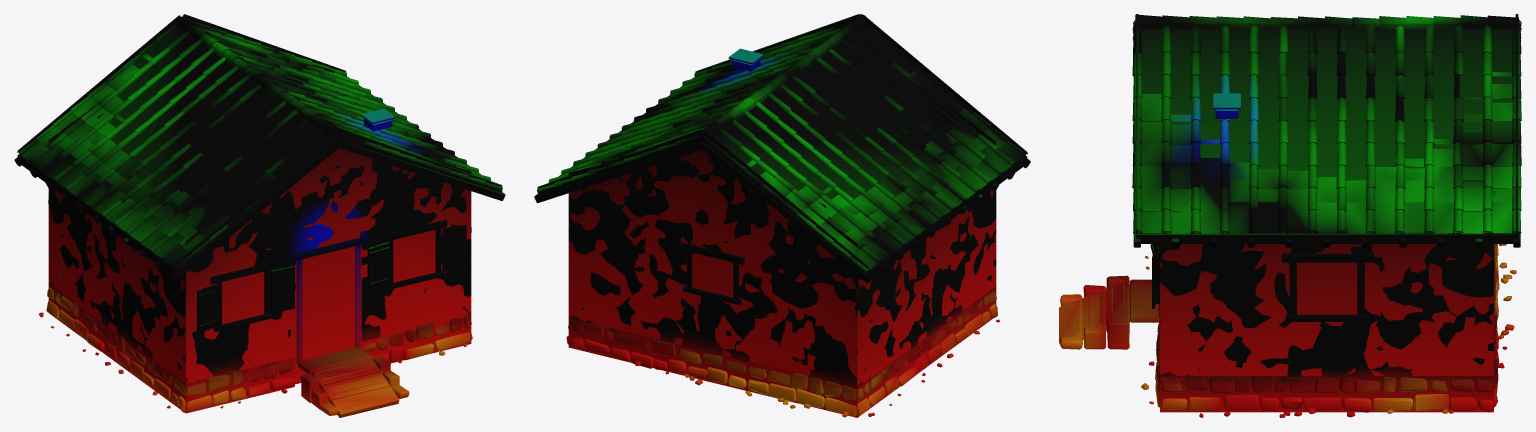
File: valdora_t2_mixed.glb
The picture shows the model from 3 angles, left to right: view 1: azimuth 30°, elevation 25°; view 2: azimuth 150°, elevation 25°; view 3: azimuth 270°, elevation 25°; orthographic projection. The views are drawn at different scales.
Visible parts, largest first — view 1: valdora_t2_mixed_shell, valdora_t2_mixed_far, valdora_t2_mixed_detail; view 2: valdora_t2_mixed_shell, valdora_t2_mixed_far, valdora_t2_mixed_detail; view 3: valdora_t2_mixed_shell, valdora_t2_mixed_far, valdora_t2_mixed_detail.
Part boxes in pixels (left/top/right/bottom): valdora_t2_mixed_shell: left=14, top=14, right=505, bottom=417; valdora_t2_mixed_far: left=48, top=24, right=471, bottom=409; valdora_t2_mixed_detail: left=39, top=108, right=467, bottom=409; valdora_t2_mixed_shell: left=534, top=14, right=1030, bottom=417; valdora_t2_mixed_far: left=568, top=25, right=996, bottom=414; valdora_t2_mixed_detail: left=635, top=48, right=999, bottom=417; valdora_t2_mixed_shell: left=1059, top=14, right=1521, bottom=412; valdora_t2_mixed_far: left=1141, top=26, right=1512, bottom=408; valdora_t2_mixed_detail: left=1065, top=93, right=1516, bottom=417.
Size of the model in its own units: 7 by 5.21 by 6.93.
